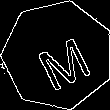M_NW: (26, 23, 90, 88)
